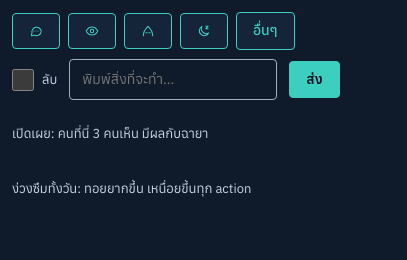
Test: C2 action bar on a phone (GEN-134: four icons from the mockup + อื่นๆ) › GEN-134: Escape closes the อื่นๆ list and focus goes back to อื่นๆ
Click the button "อื่นๆ": (265, 31) [236,12,295,50]
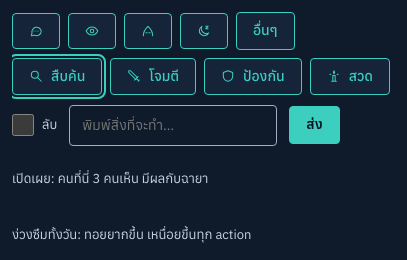
Press Escape in the button "สืบค้น", box [12,58,102,95]
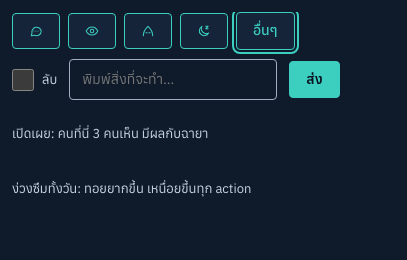
Now the element "การกระทำทั้งหมด" is gone
